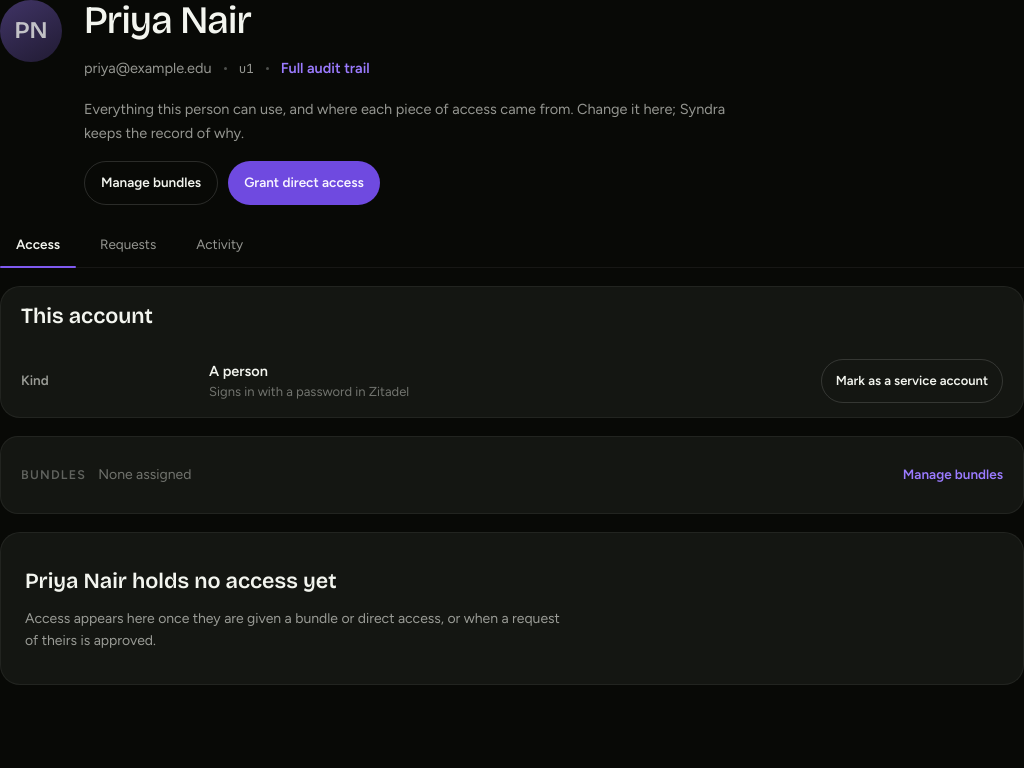
Test: This account · Kind › says a person is a person, and offers Mark as a service account
Expected: the text "A person" is shown, [209, 362, 268, 380]
Expected: the text "Signs in with a password in Zitadel" is shown, [209, 384, 409, 399]
Click the button "Mark as a service account". click: (912, 381)
box: [821, 359, 1003, 403]
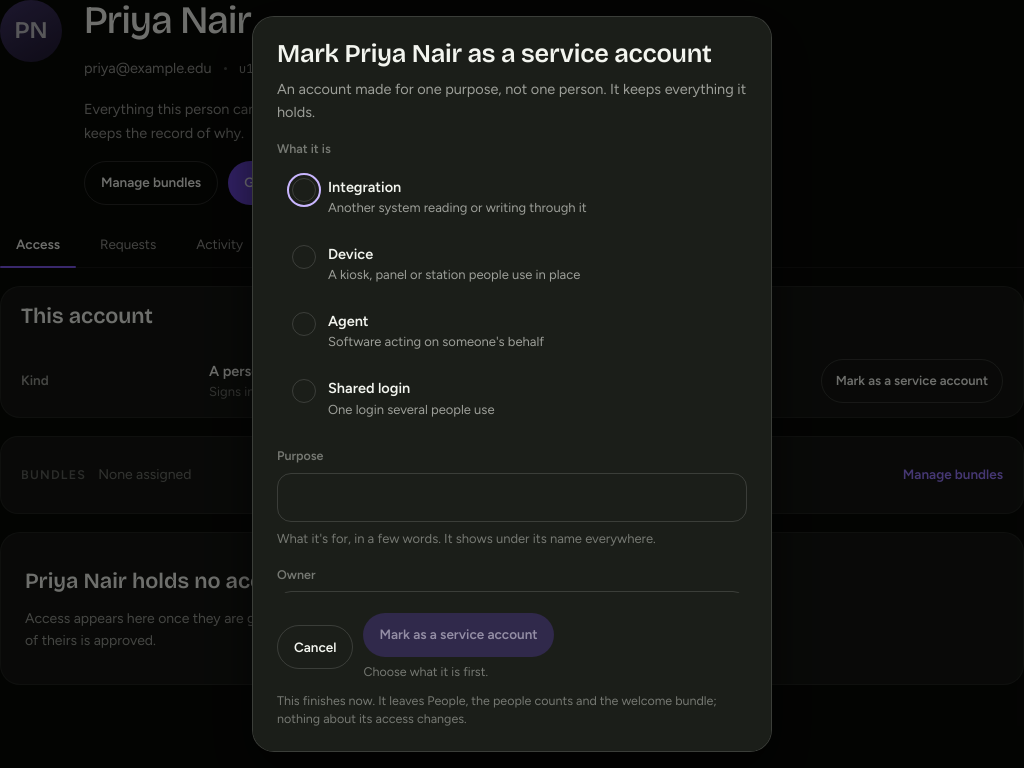
Expected: the heading "Mark Priya Nair as a service account" is shown, [277, 39, 747, 68]
